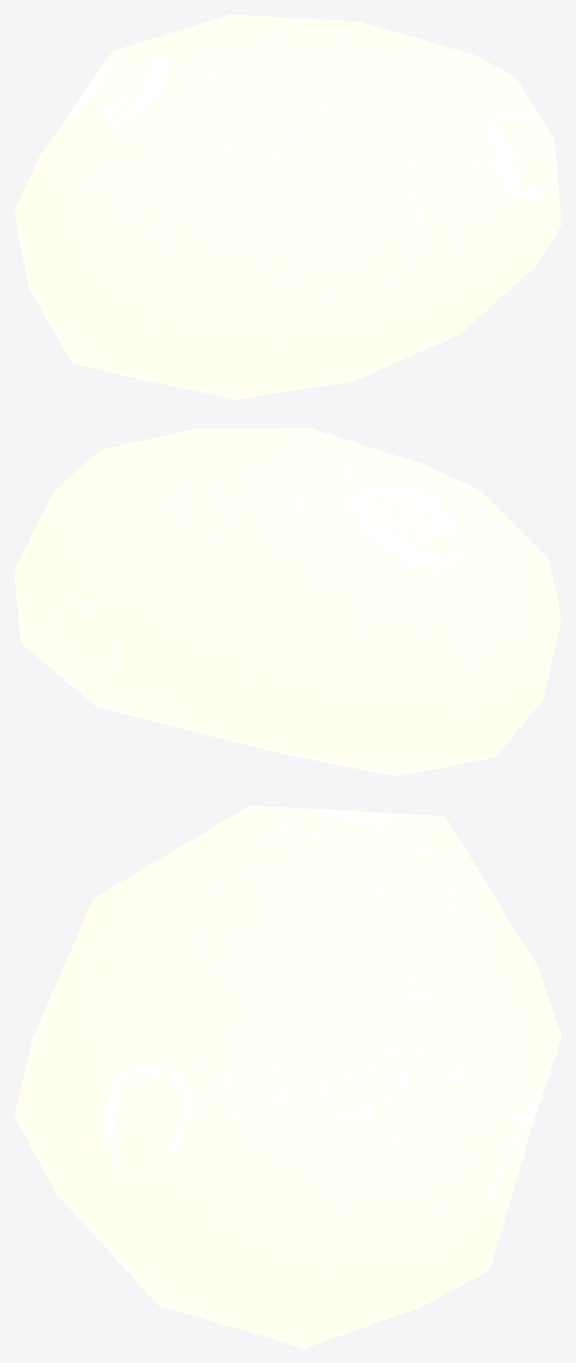
The picture shows the model from 3 angles, top to bottom: view 1: azimuth 30°, elevation 25°; view 2: azimuth 150°, elevation 25°; view 3: azimuth 270°, elevation 25°; orthographic projection. The views are drawn at different scales.
Visible parts, largest first — view 1: SM_Potato_Fruit_01_LOD0; view 2: SM_Potato_Fruit_01_LOD0; view 3: SM_Potato_Fruit_01_LOD0.
Boxes of the visible parts, x1,y1,x2,y2 form: SM_Potato_Fruit_01_LOD0: (14, 14, 561, 399); SM_Potato_Fruit_01_LOD0: (14, 428, 561, 776); SM_Potato_Fruit_01_LOD0: (14, 805, 561, 1348).
Bounding box in the file's own units: 0.2823 × 0.1625 × 0.1987.
Materials: 1 (1 with a texture image).
